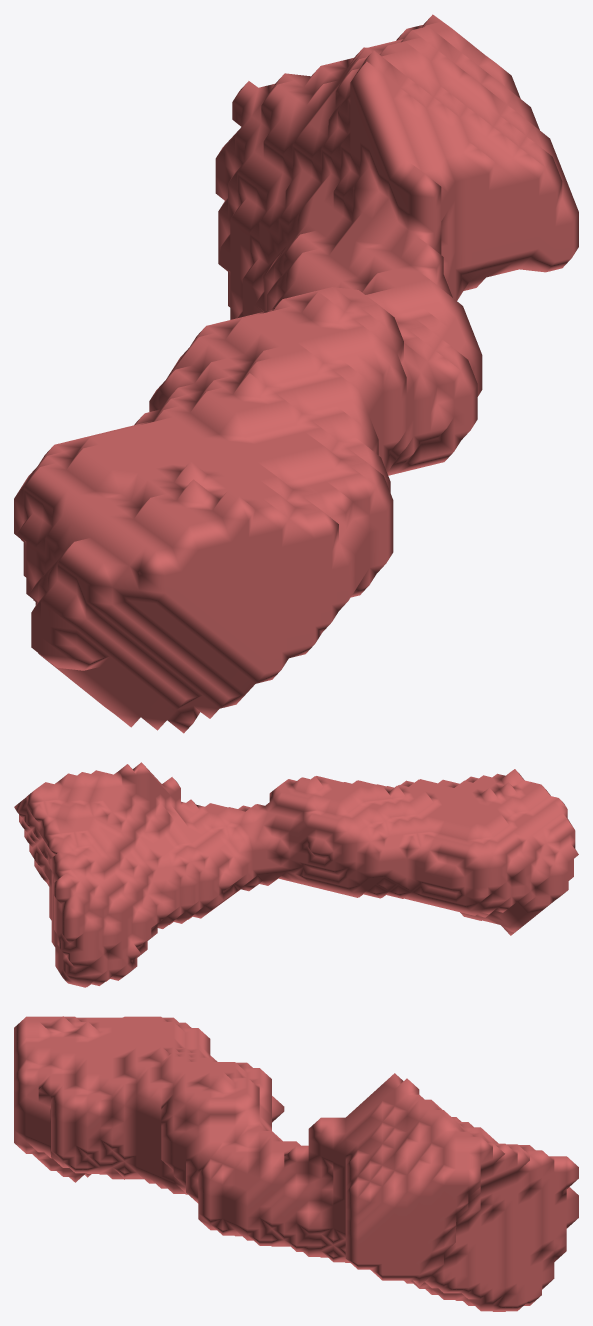
The model's file is Sinu_Branch.obj.
3 views of the same model, one above another, from view 1: azimuth 30°, elevation 25°; view 2: azimuth 150°, elevation 25°; view 3: azimuth 270°, elevation 25° (orthographic). The views are drawn at different scales.
Visible parts, largest first — view 1: skin; view 2: skin; view 3: skin.
Part boxes in pixels (x1=…): skin: x1=14, y1=14, x2=578, y2=733; skin: x1=14, y1=762, x2=578, y2=987; skin: x1=14, y1=1016, x2=578, y2=1311.
Size of the model in its own units: 44.99 by 21.99 by 45.99.
